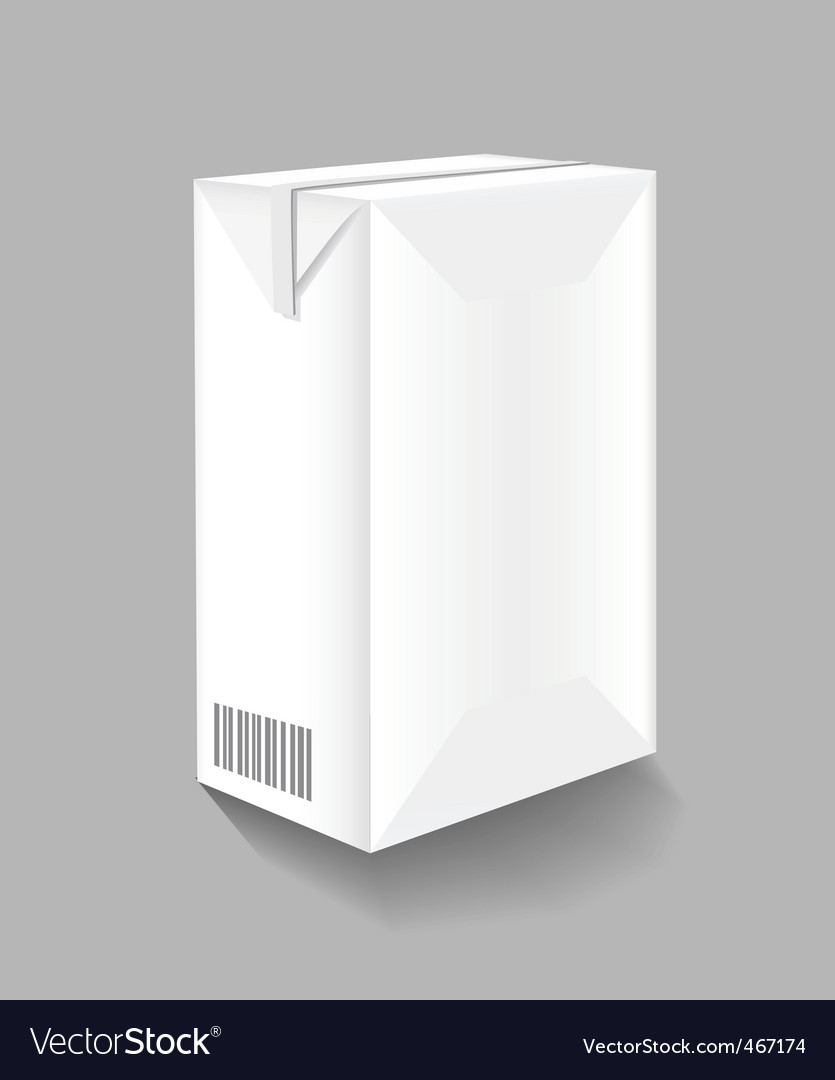carton: (158, 81, 715, 927)
